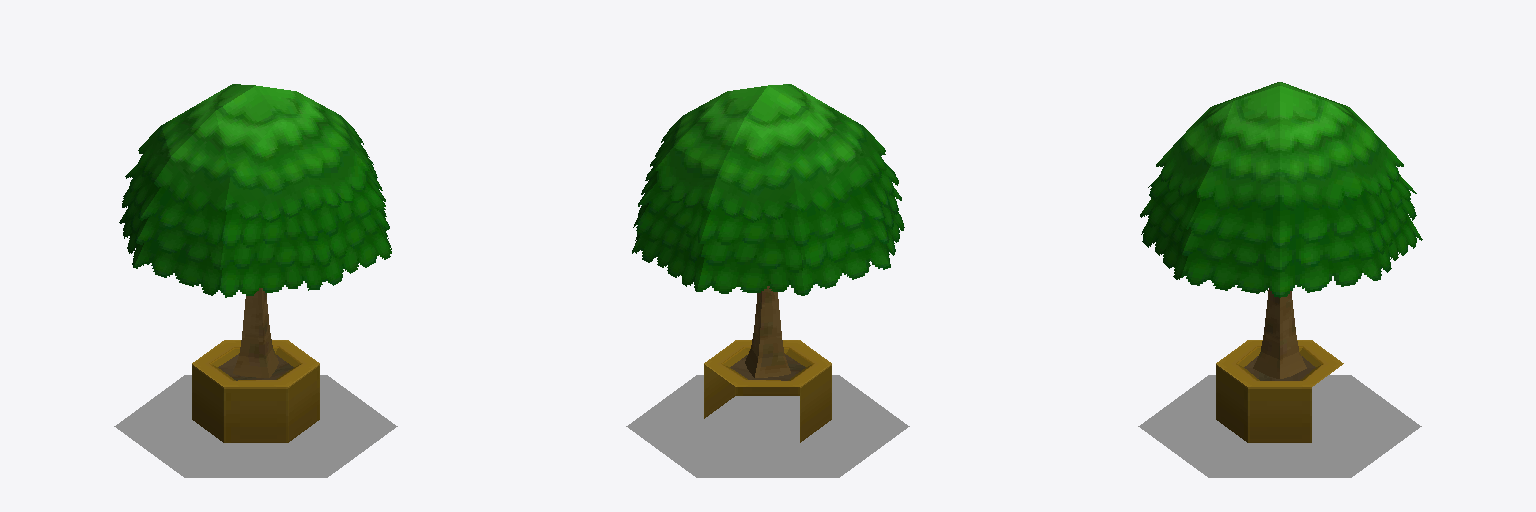
3 views of the same model, side by side, from view 1: azimuth 30°, elevation 25°; view 2: azimuth 150°, elevation 25°; view 3: azimuth 270°, elevation 25° (orthographic).
Visible parts, largest first — view 1: polySurface1.004; view 2: polySurface1.004; view 3: polySurface1.004.
Part boxes in pixels (x1,y1,x2,y2): polySurface1.004: (114,84,397,477); polySurface1.004: (626,84,909,477); polySurface1.004: (1138,82,1422,477).
Bounding box in the file's own units: 1.77 × 2.32 × 1.77.
Materials: 2 (1 with a texture image).